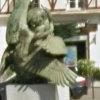Statue: (5, 3, 86, 87)
